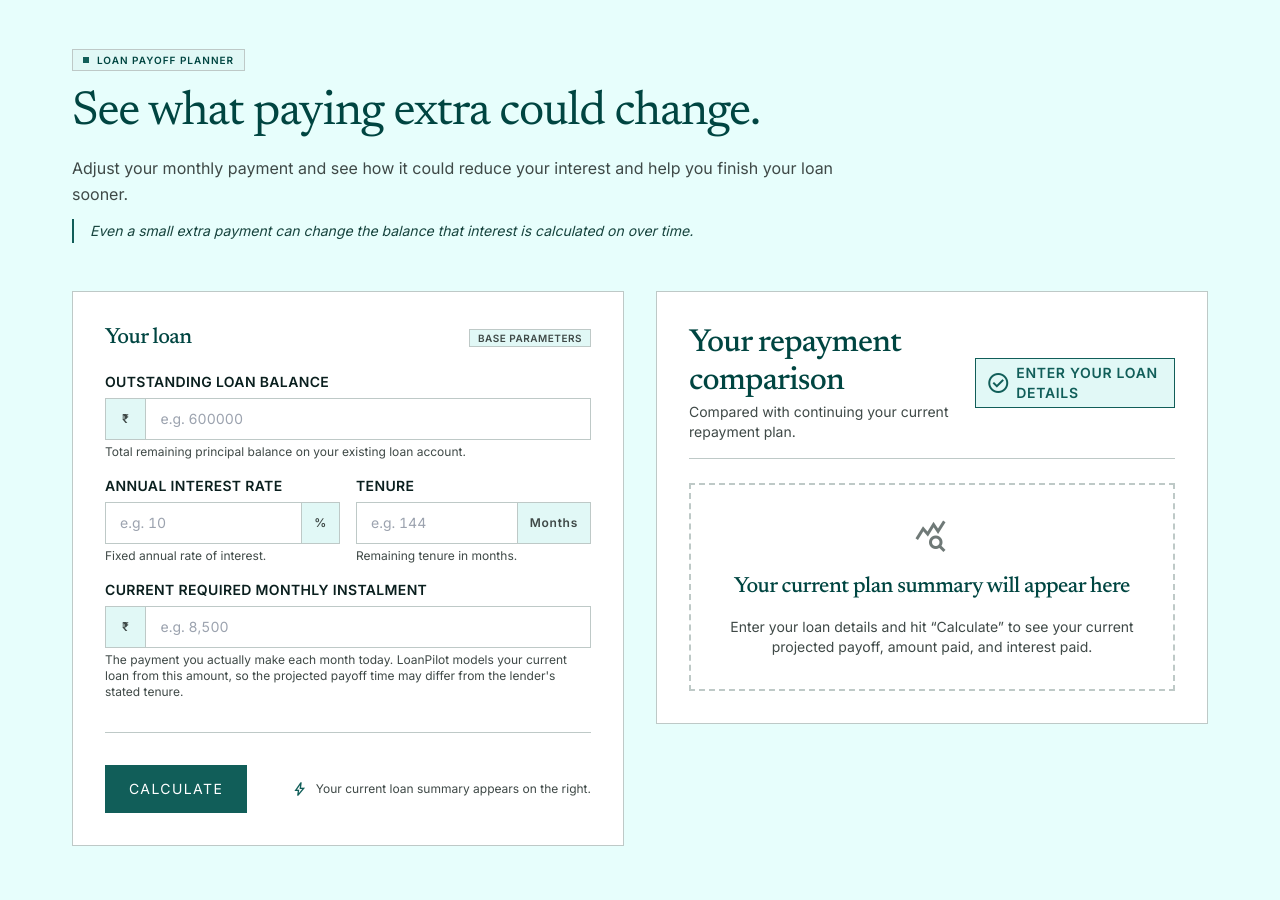
EMI guidance and auto-scroll › does not scroll when the first calculation fails
Type "8000" into the field labelled "Current required monthly instalment" at (368, 627), box [146,607,590,647]
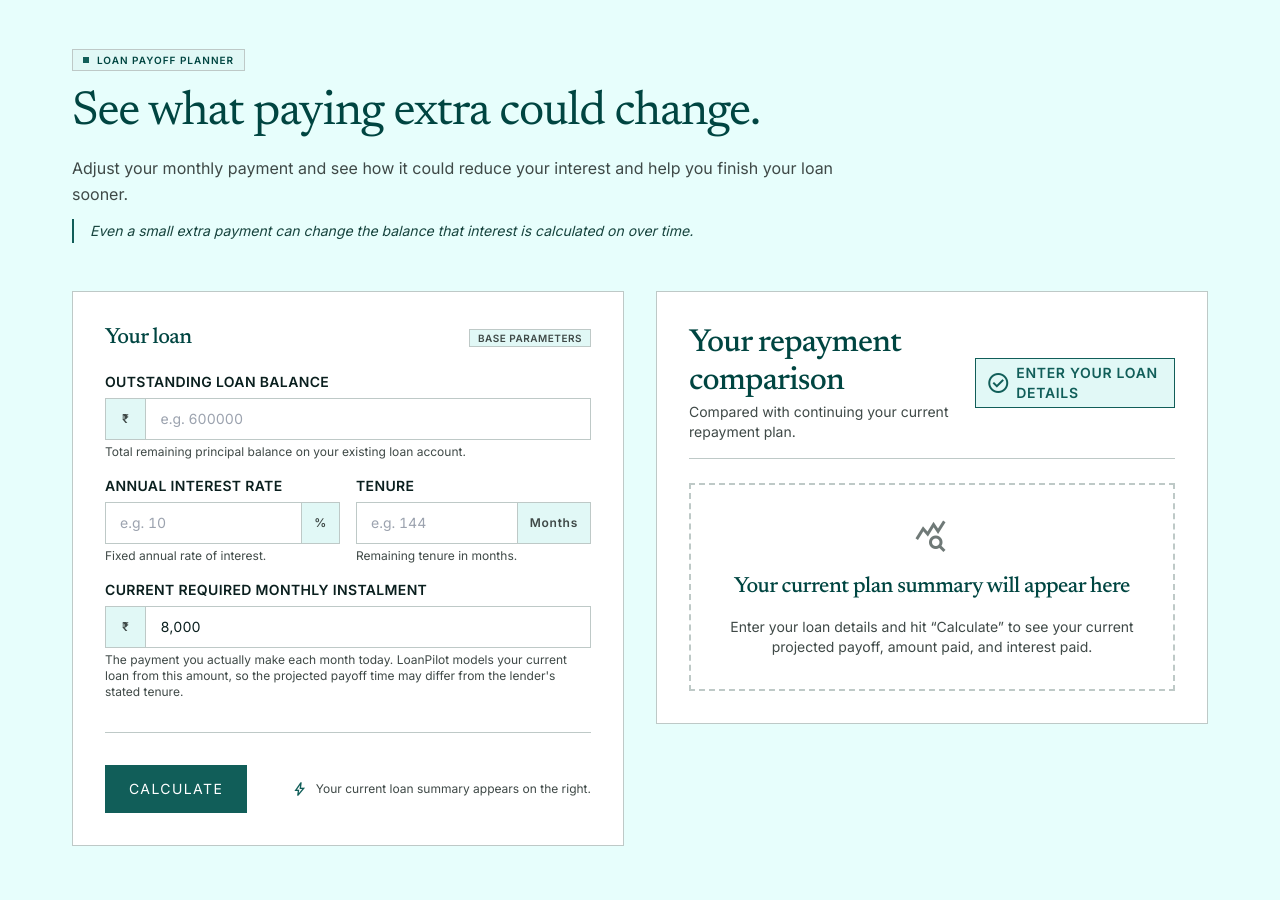
Type "600000" into the field labelled "Outstanding loan balance" at (368, 419), box [146,399,590,439]
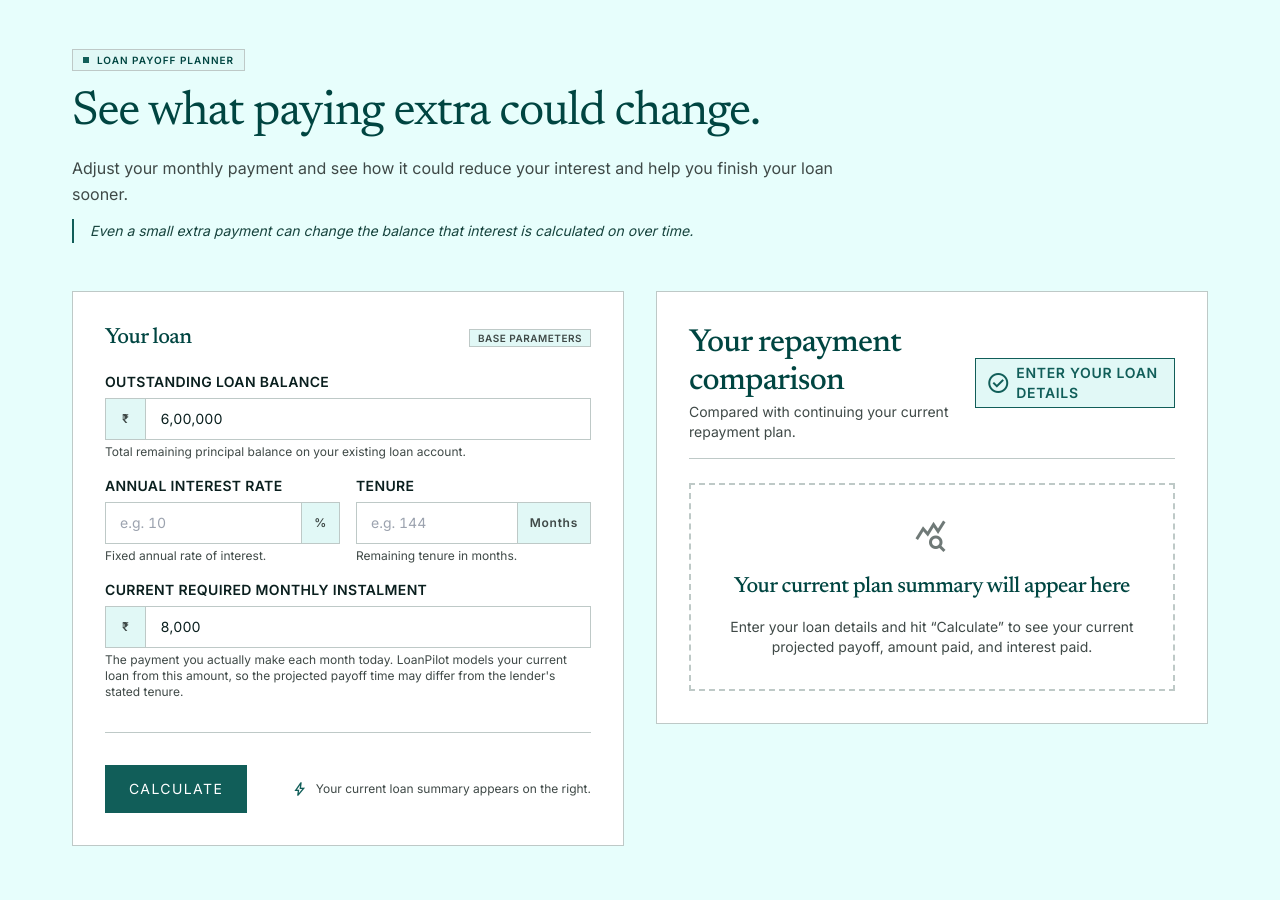
Type "8.5" into the field labelled "Annual interest rate" at (204, 523), box [106,503,301,543]
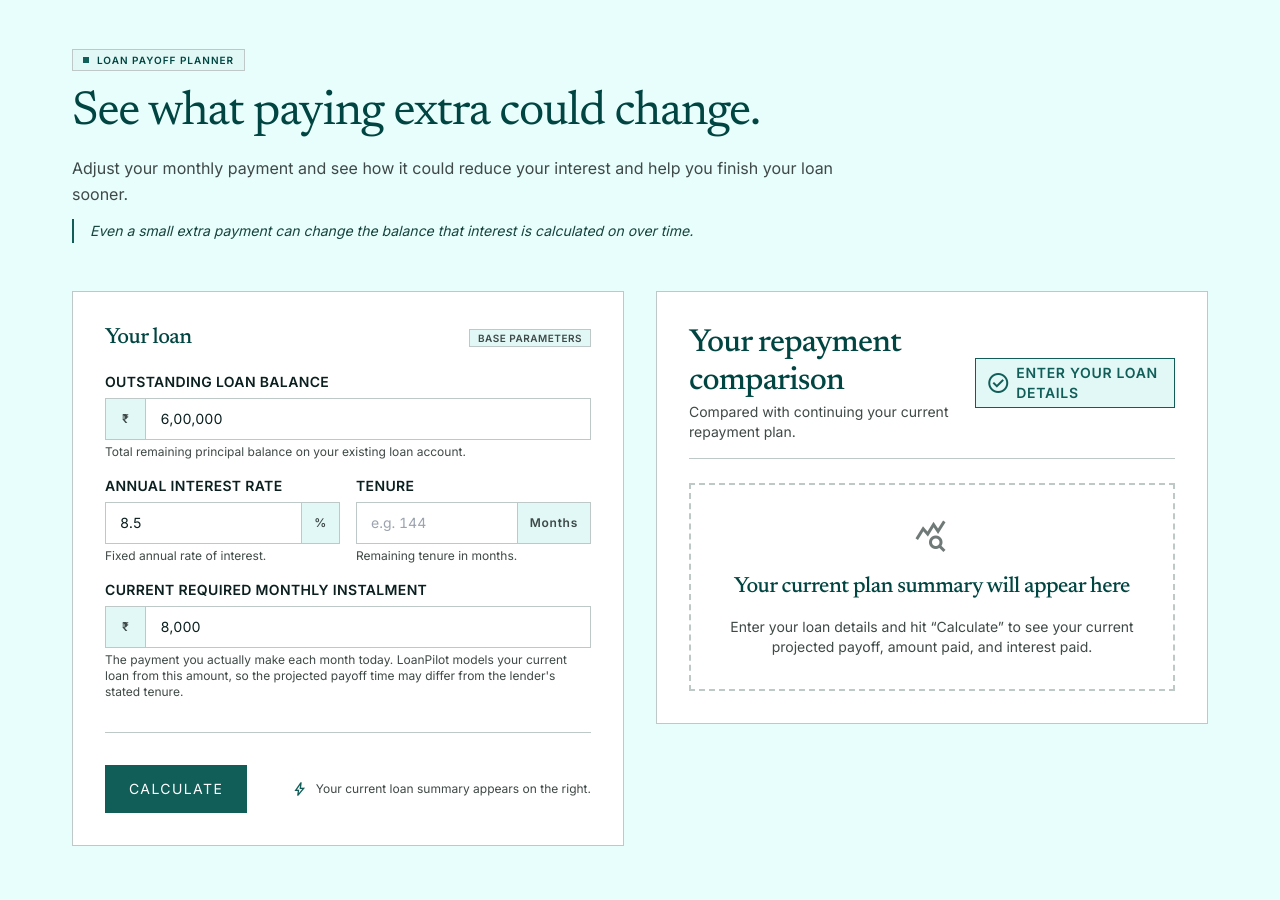
Type "180" into the field labelled "Tenure" at (437, 523), box [357,503,517,543]
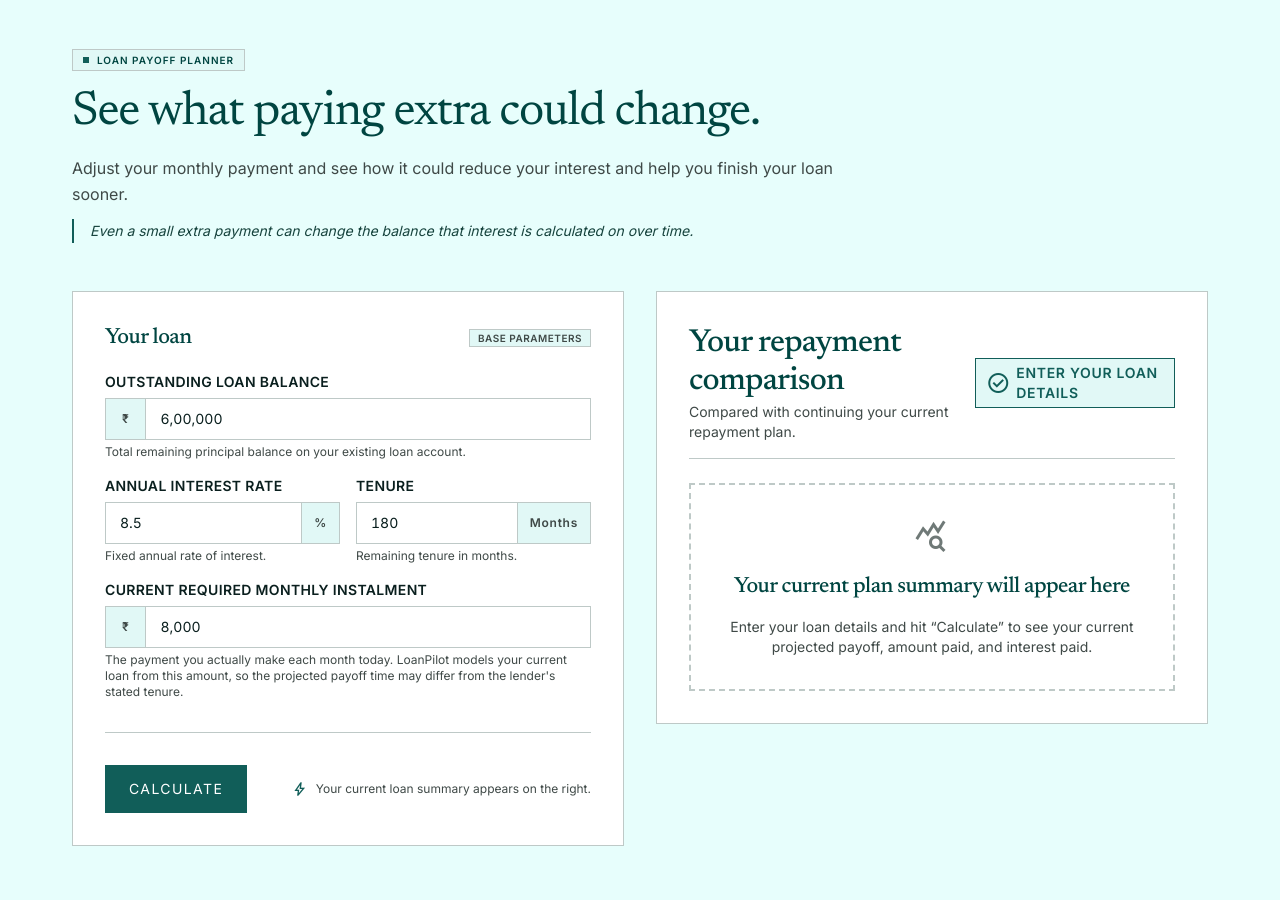
Click the button "Calculate" at (176, 789), box [105,765,247,813]
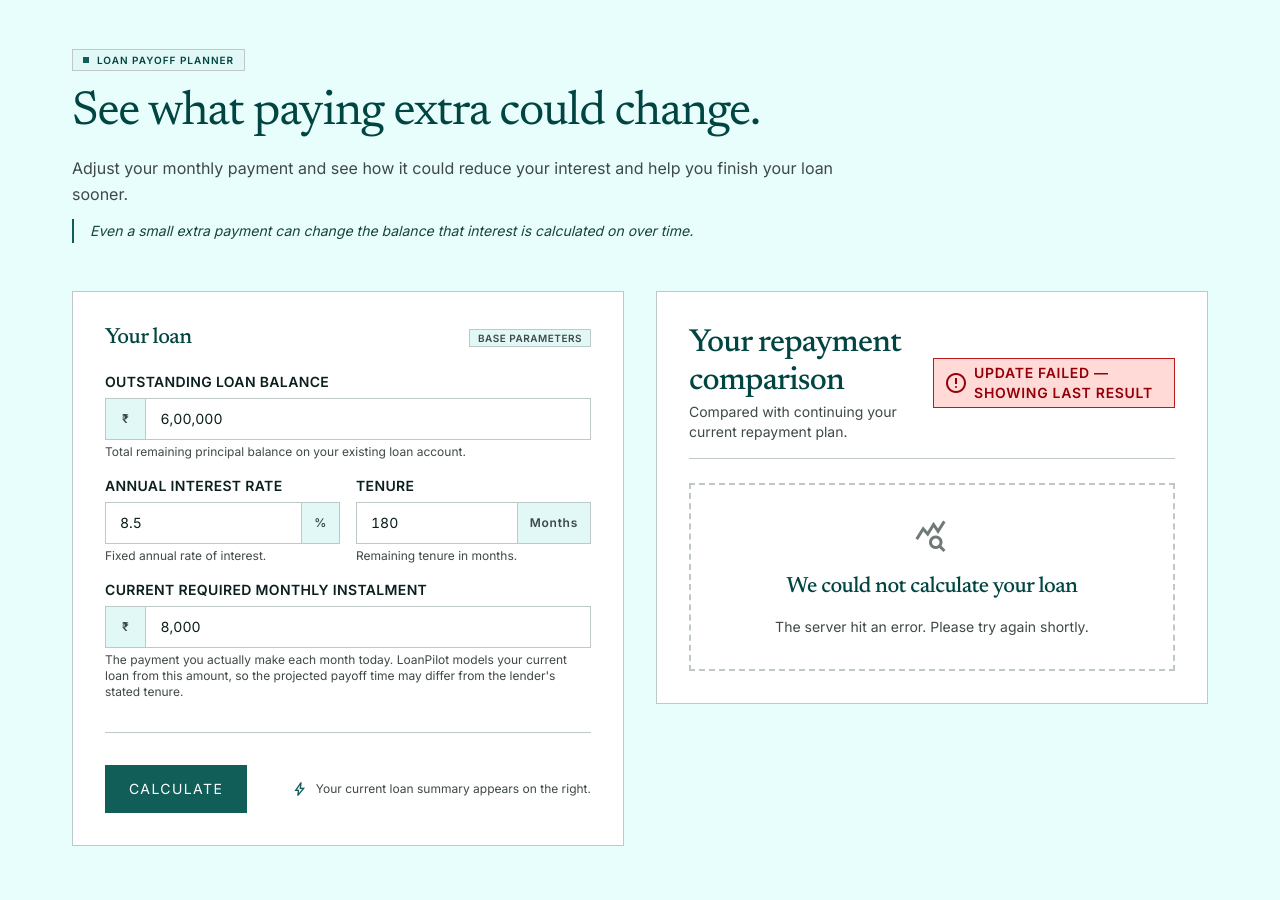
Now the heading "We could not calculate your loan" is shown, box [787,573,1078,601]
